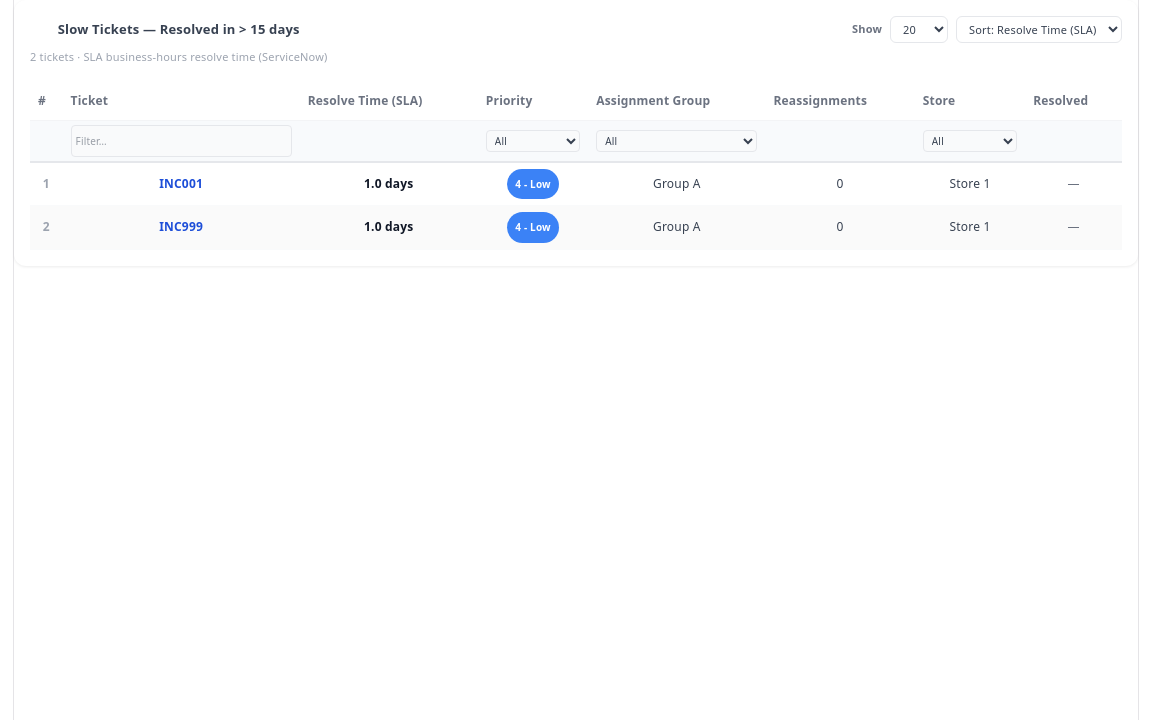
Test: Top20SlowTickets › filters rows by ticket number when text is typed
Type "INC001" into the field with placeholder "Filter…" at {"x": 181, "y": 141}, box [71,125,292,157]
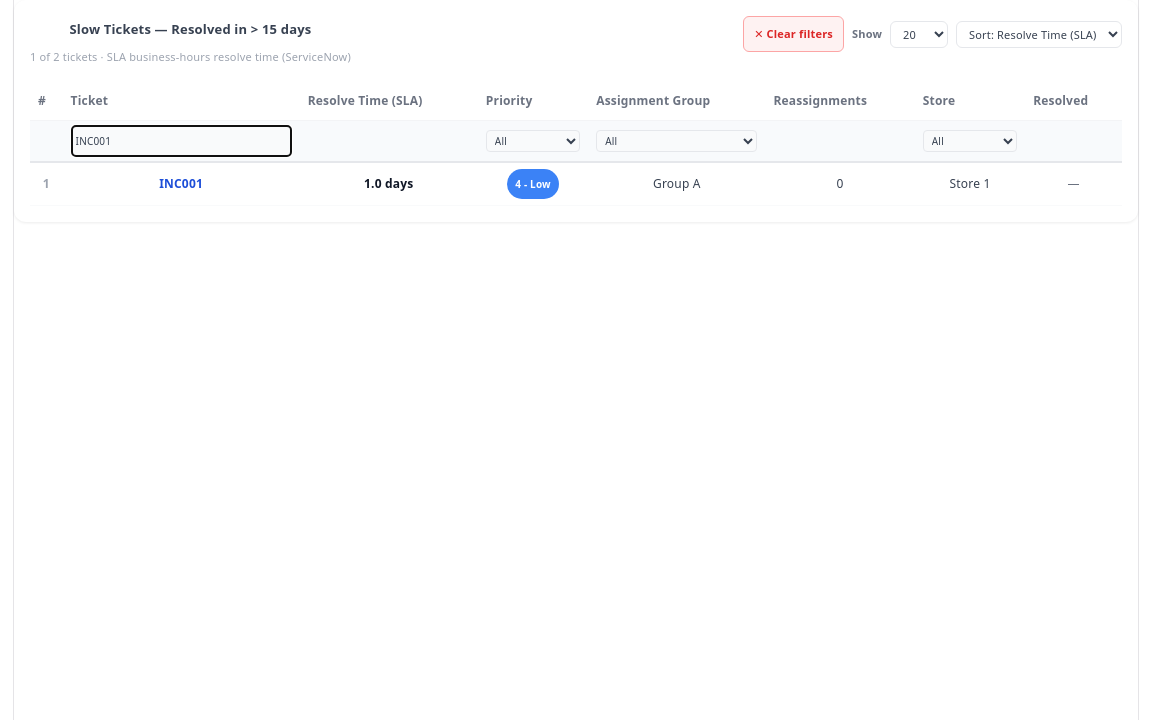
Expected: the text "INC001" is shown, [63,162,300,206]
Result: the text "INC999" is gone
